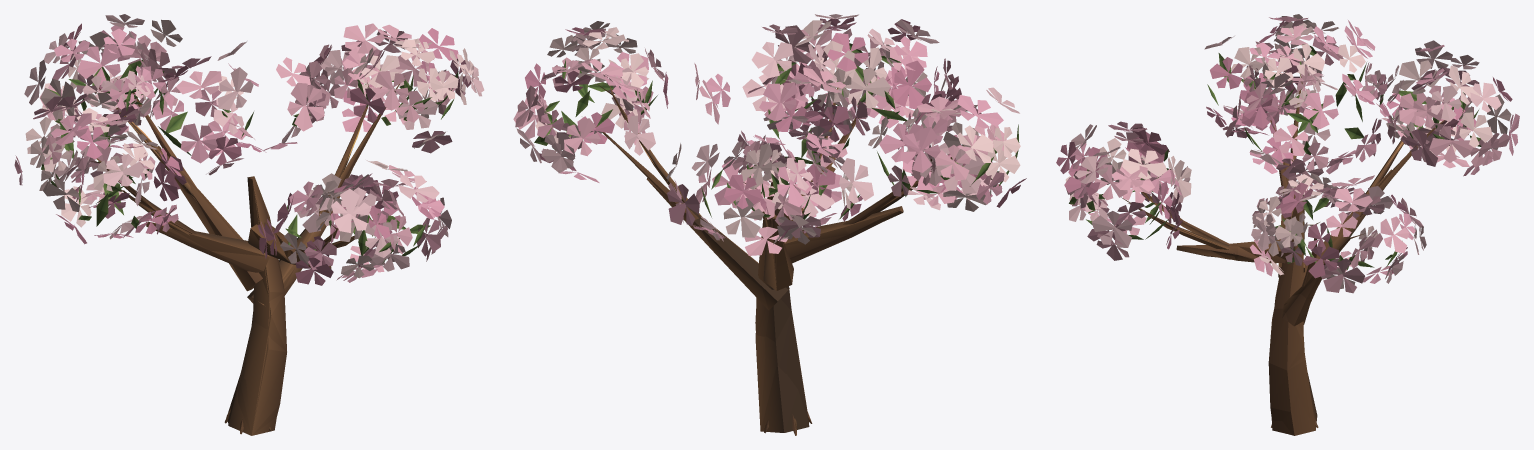
The model's file is tree_sakura.glb.
3 renders of one model, left to right at view 1: azimuth 30°, elevation 25°; view 2: azimuth 150°, elevation 25°; view 3: azimuth 270°, elevation 25°, orthographic. The views are drawn at different scales.
Parts seen in each view (by area): view 1: Sakura_Blossom_Canopy, Sakura_Far_Blossom_Canopy, Sakura_Trunk_Branches, Sakura_Far_Trunk_Branches; view 2: Sakura_Blossom_Canopy, Sakura_Far_Blossom_Canopy, Sakura_Trunk_Branches, Sakura_Far_Trunk_Branches; view 3: Sakura_Blossom_Canopy, Sakura_Far_Blossom_Canopy, Sakura_Trunk_Branches, Sakura_Far_Trunk_Branches.
Boxes of the visible parts, left/top/right/bottom form: Sakura_Blossom_Canopy: left=15, top=14, right=478, bottom=285; Sakura_Far_Blossom_Canopy: left=14, top=15, right=484, bottom=284; Sakura_Trunk_Branches: left=91, top=76, right=409, bottom=435; Sakura_Far_Trunk_Branches: left=92, top=70, right=399, bottom=435; Sakura_Blossom_Canopy: left=516, top=14, right=1026, bottom=253; Sakura_Far_Blossom_Canopy: left=513, top=14, right=1020, bottom=255; Sakura_Trunk_Branches: left=595, top=78, right=951, bottom=435; Sakura_Far_Trunk_Branches: left=596, top=84, right=951, bottom=433; Sakura_Blossom_Canopy: left=1056, top=14, right=1517, bottom=293; Sakura_Far_Blossom_Canopy: left=1060, top=16, right=1519, bottom=292; Sakura_Trunk_Branches: left=1129, top=79, right=1447, bottom=435; Sakura_Far_Trunk_Branches: left=1121, top=68, right=1443, bottom=435.
Bounding box in the file's own units: 6.35 × 5.07 × 6.04.
